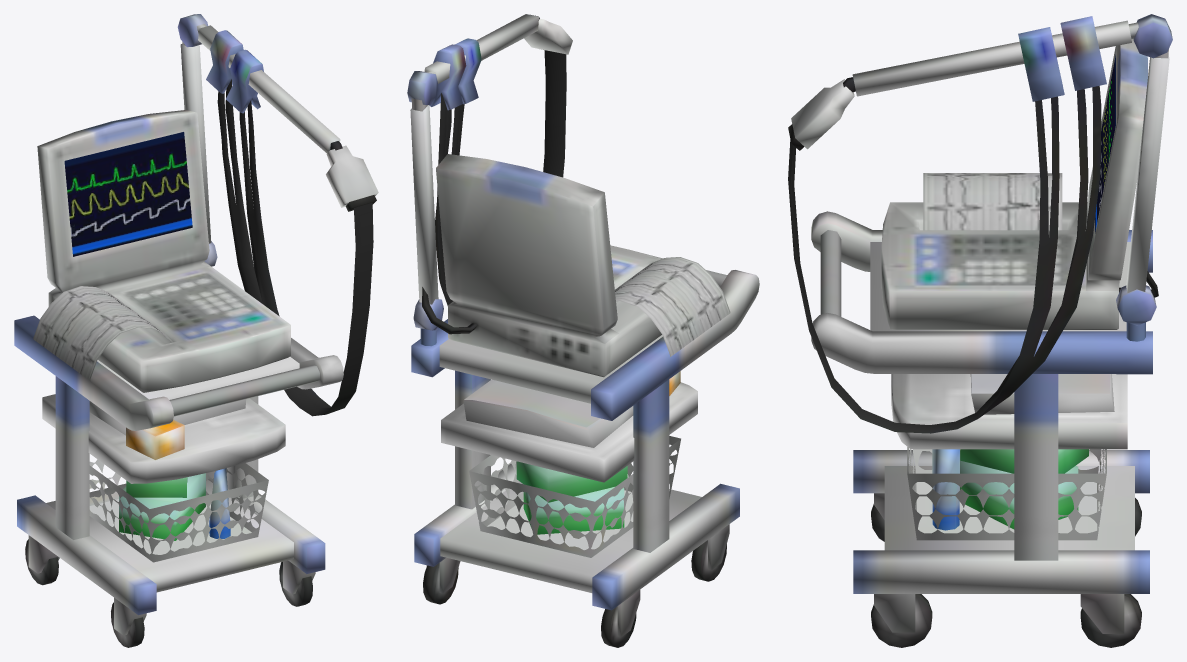
The picture shows the model from 3 angles, left to right: view 1: azimuth 30°, elevation 25°; view 2: azimuth 150°, elevation 25°; view 3: azimuth 270°, elevation 25°; orthographic projection. The views are drawn at different scales.
Size of the model in its own units: 7.79 by 15.93 by 8.83.
Materials: 3 (3 with a texture image).
